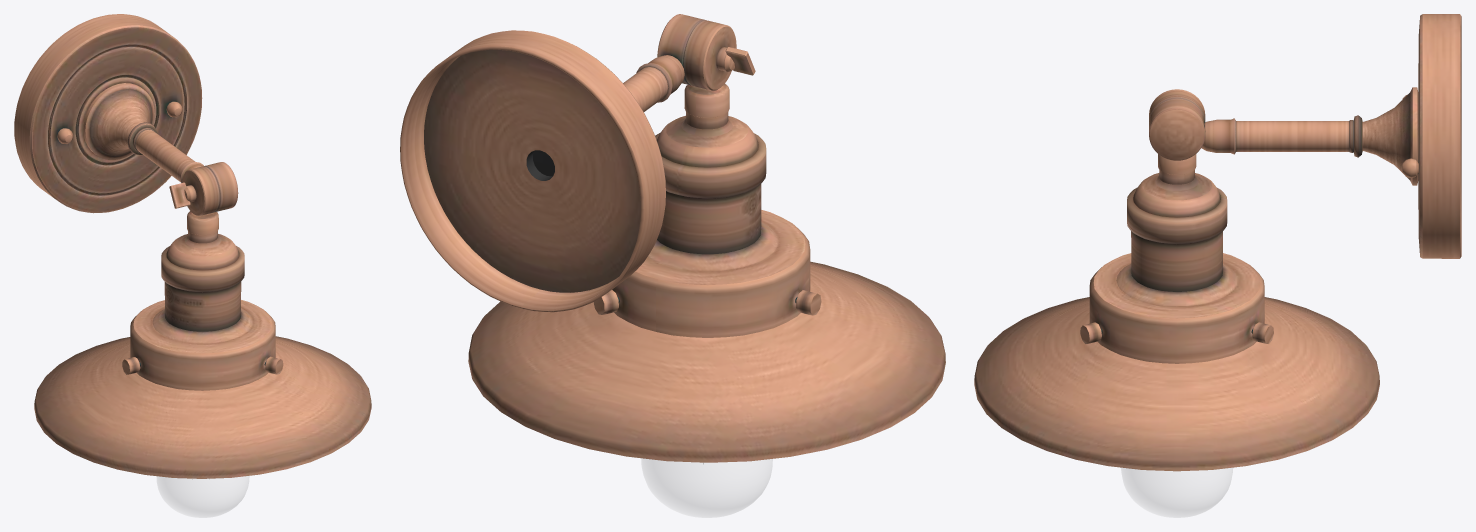
The model's file is barnlamp.glb.
3 views of the same model, side by side, from view 1: azimuth 30°, elevation 25°; view 2: azimuth 150°, elevation 25°; view 3: azimuth 270°, elevation 25° (orthographic). The views are drawn at different scales.
Parts seen in each view (by area): view 1: Lamp Metal, Lamp Glass; view 2: Lamp Metal, Lamp Glass; view 3: Lamp Metal, Lamp Glass.
Part boxes in pixels (<box>): Lamp Metal: <box>14,14,371,479</box>; Lamp Glass: <box>157,476,249,517</box>; Lamp Metal: <box>400,14,945,464</box>; Lamp Glass: <box>641,458,772,517</box>; Lamp Metal: <box>974,14,1461,471</box>; Lamp Glass: <box>1121,468,1232,517</box>.
Bounding box in the file's own units: 0.1908 × 0.2552 × 0.2265.
Materials: 3 (1 with a texture image).
